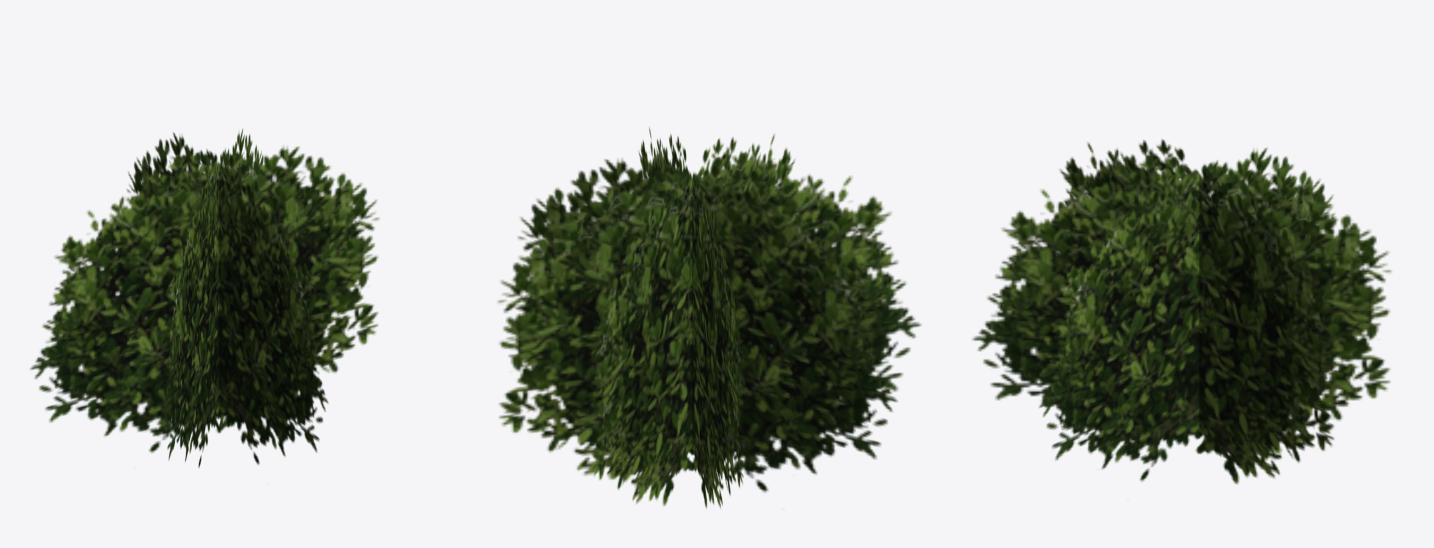
Rendered from Bush_02.glb.
3 views of the same model, side by side, from view 1: azimuth 30°, elevation 25°; view 2: azimuth 150°, elevation 25°; view 3: azimuth 270°, elevation 25° (orthographic). The views are drawn at different scales.
Parts seen in each view (by area): view 1: Bush 02; view 2: Bush 02; view 3: Bush 02.
Part boxes in pixels (x1=…): Bush 02: x1=29, y1=129, x2=379, y2=467; Bush 02: x1=497, y1=127, x2=921, y2=508; Bush 02: x1=972, y1=139, x2=1391, y2=484.
Size of what is drawn, in the model's own units: 1.95 by 1.8 by 1.95.
1 material, 1 textured.
